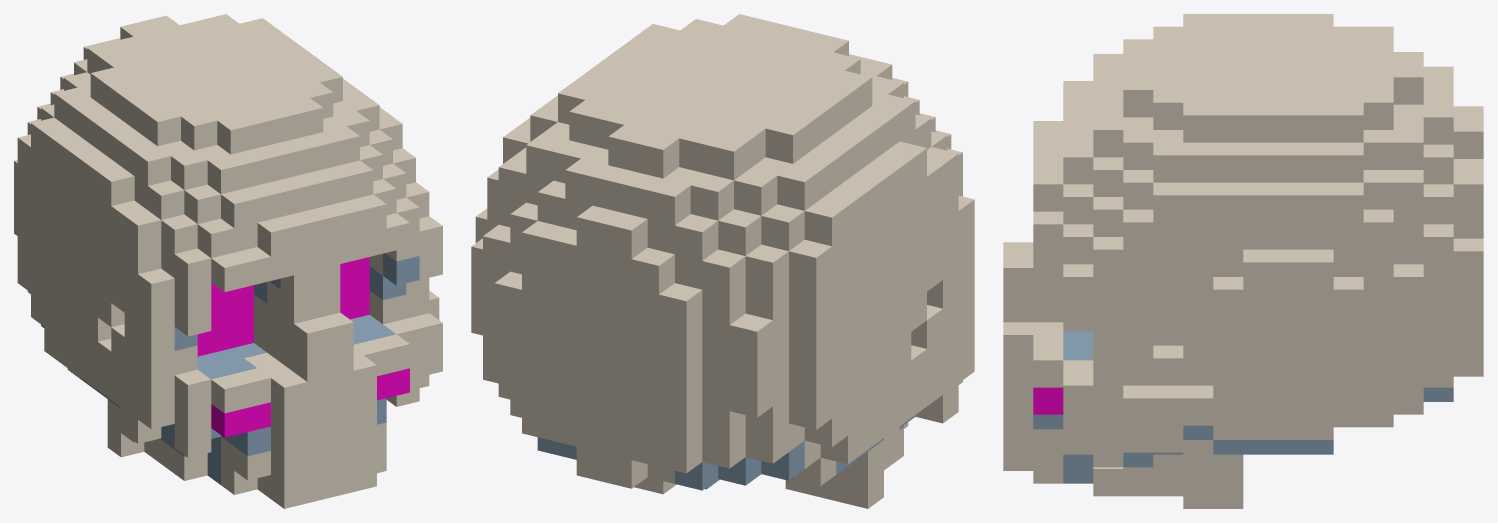
Rendered from Axyl-8.obj.
3 renders of one model, left to right at view 1: azimuth 30°, elevation 25°; view 2: azimuth 150°, elevation 25°; view 3: azimuth 270°, elevation 25°, orthographic. The views are drawn at different scales.
Size of the model in its own units: 1.3 by 1.4 by 1.6.
Materials: 1 (1 with a texture image).
